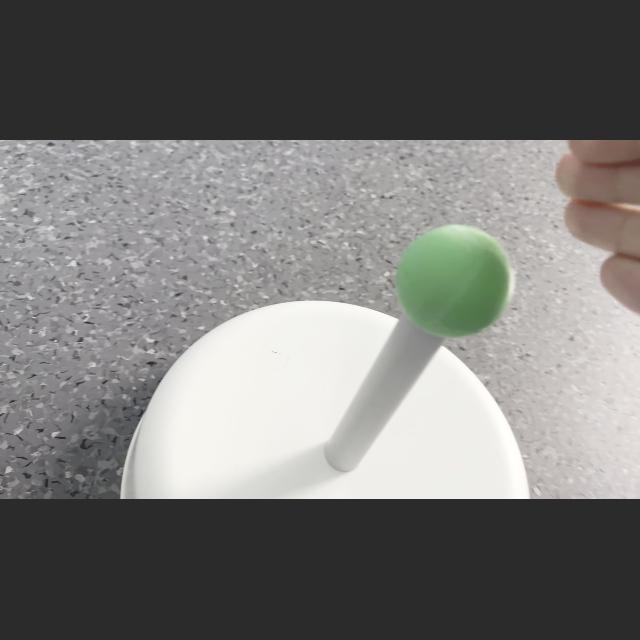objects: (388, 218, 520, 340)
